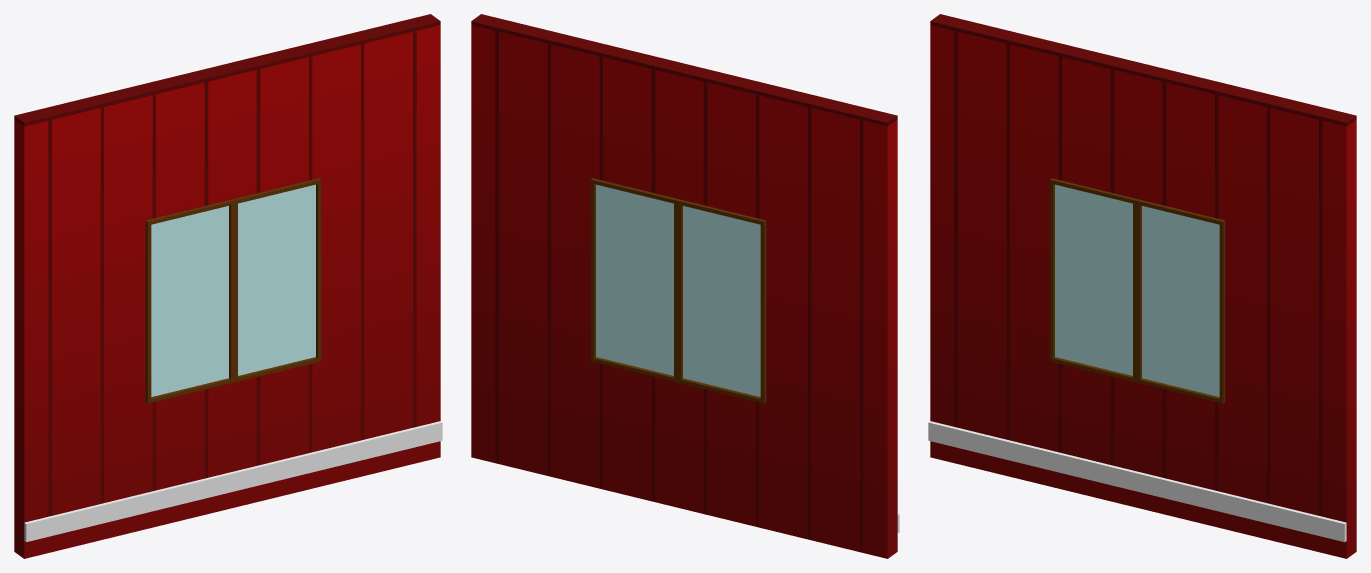
Rendered from wall23.obj.
3 views of the same model, side by side, from view 1: azimuth 30°, elevation 25°; view 2: azimuth 150°, elevation 25°; view 3: azimuth 330°, elevation 25° (orthographic).
Size of the model in its own units: 12 by 12 by 0.7.
1 material, 1 textured.
